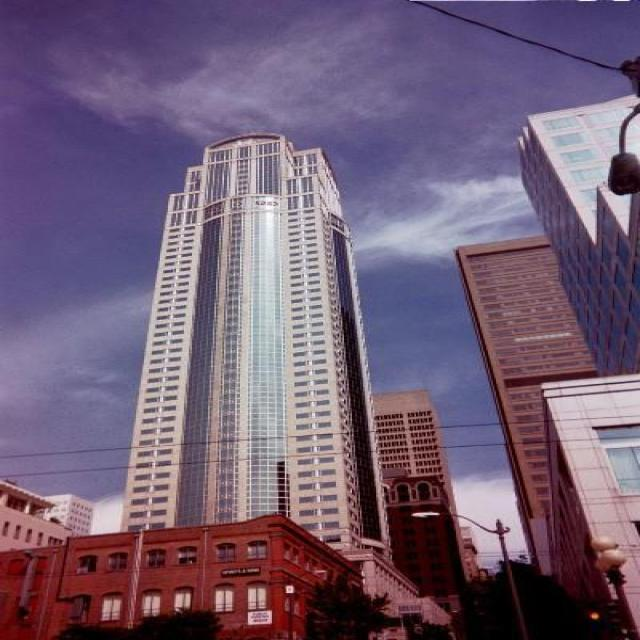building: (123, 125, 399, 569), (452, 241, 610, 640), (1, 511, 366, 640), (521, 83, 640, 381), (361, 386, 480, 640), (541, 368, 638, 640)
